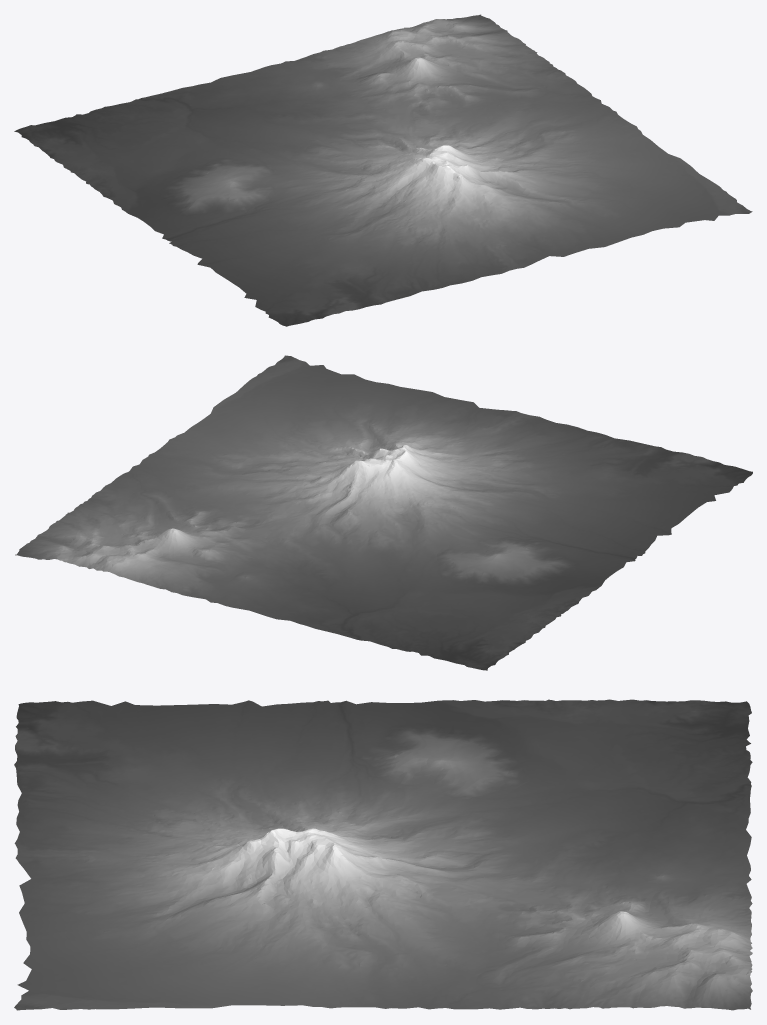
Rendered from Mountain.obj.
The picture shows the model from 3 angles, top to bottom: view 1: azimuth 30°, elevation 25°; view 2: azimuth 150°, elevation 25°; view 3: azimuth 270°, elevation 25°; orthographic projection. The views are drawn at different scales.
Bounding box in the file's own units: 19941 × 1250 × 19948.
Materials: 1 (1 with a texture image).
